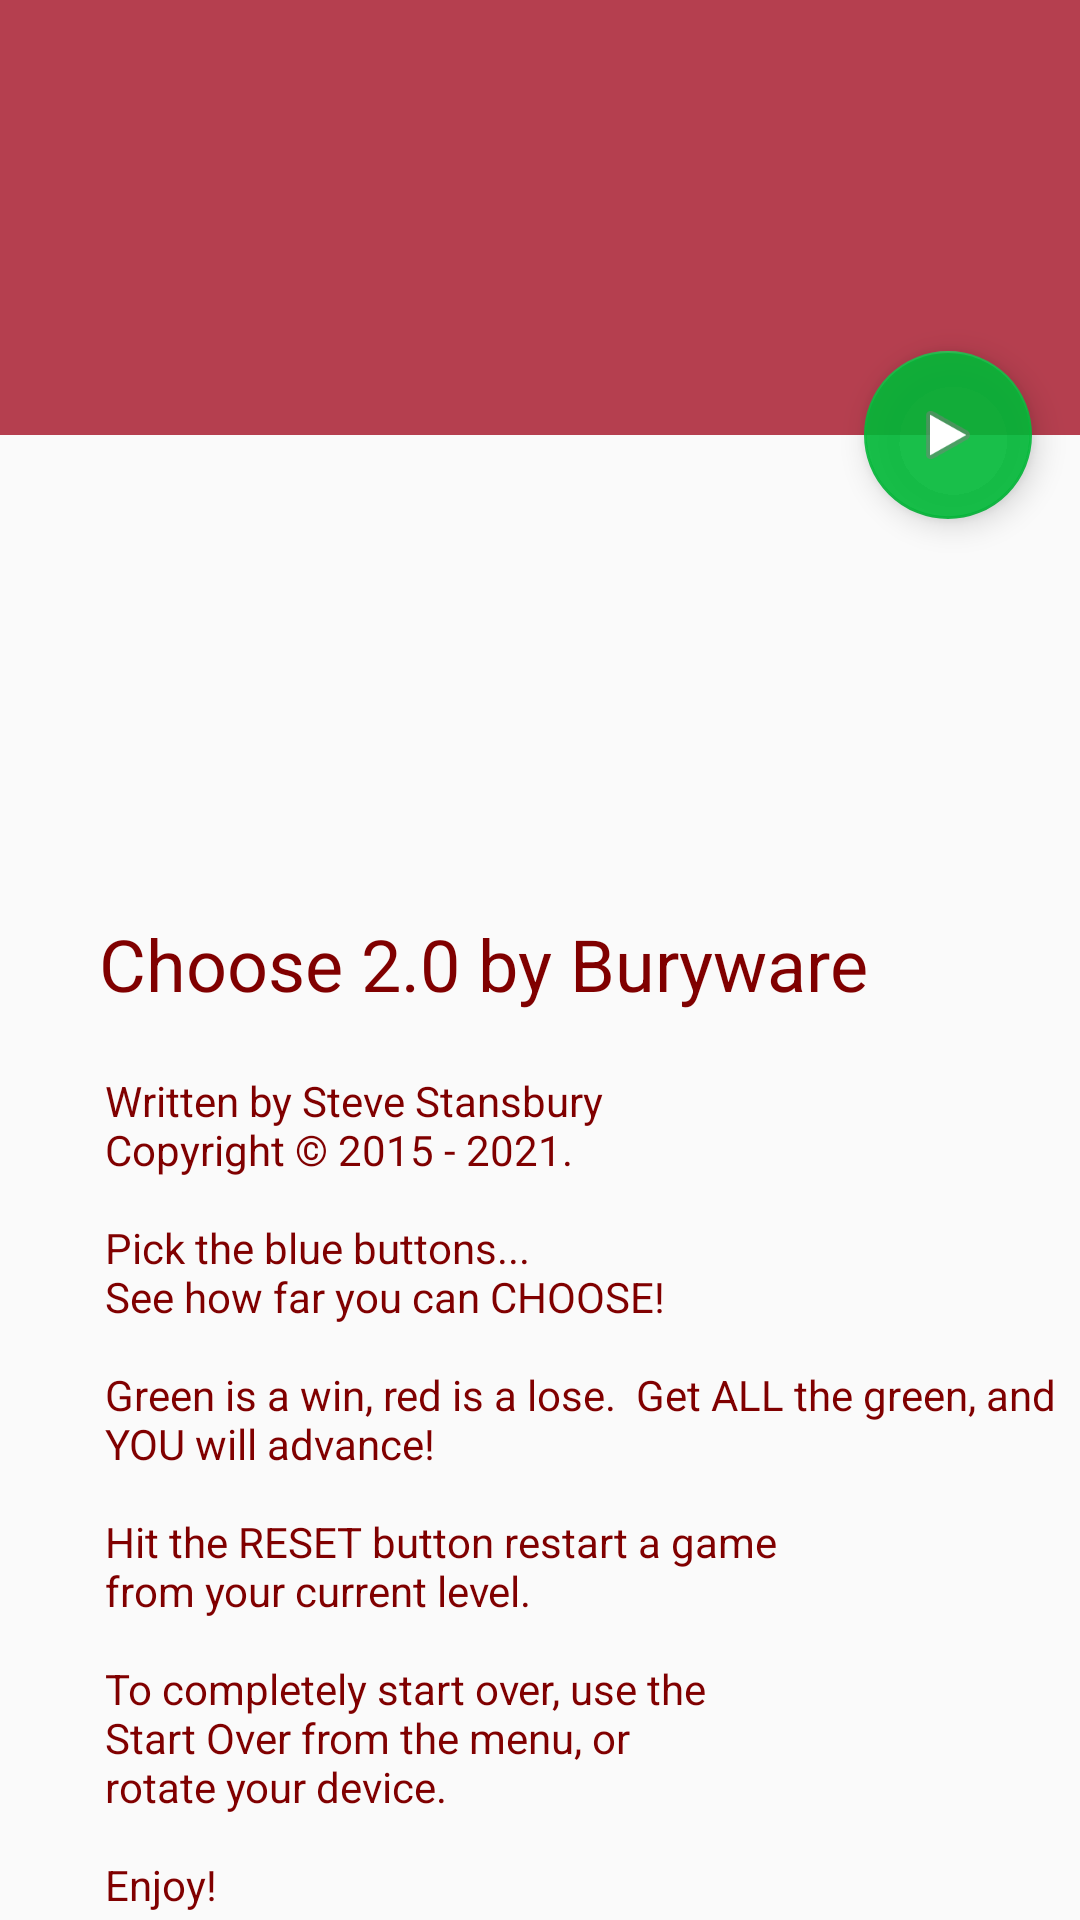

Point at icon controls on the screen. Image size 1080 x 1920, points as [x,y].
play: [948,435]
